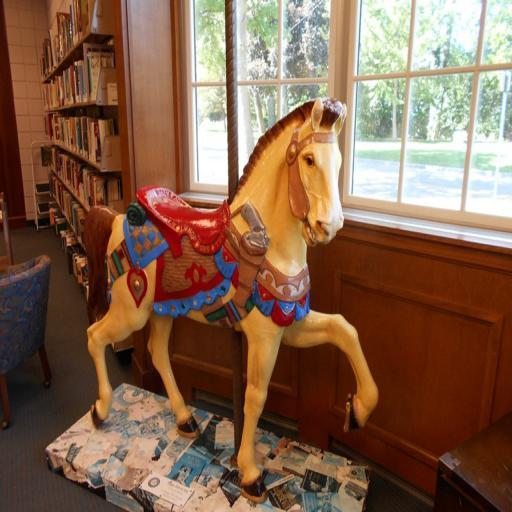horse: (82, 93, 380, 498)
